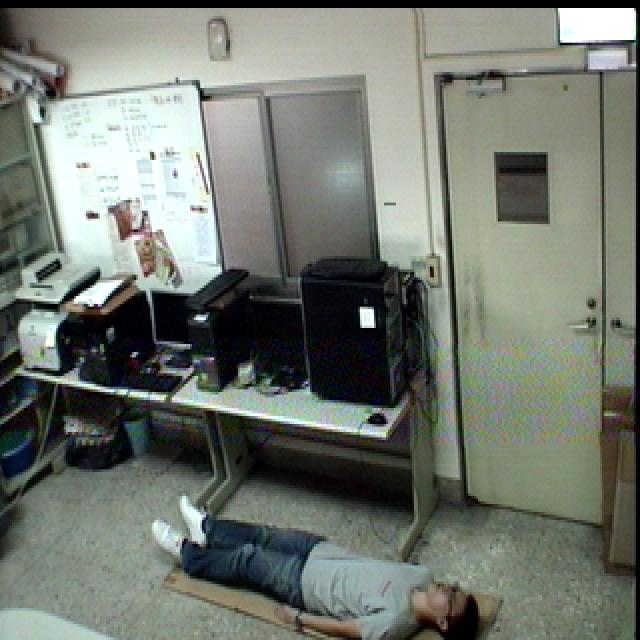lie: (146, 476, 484, 640)
